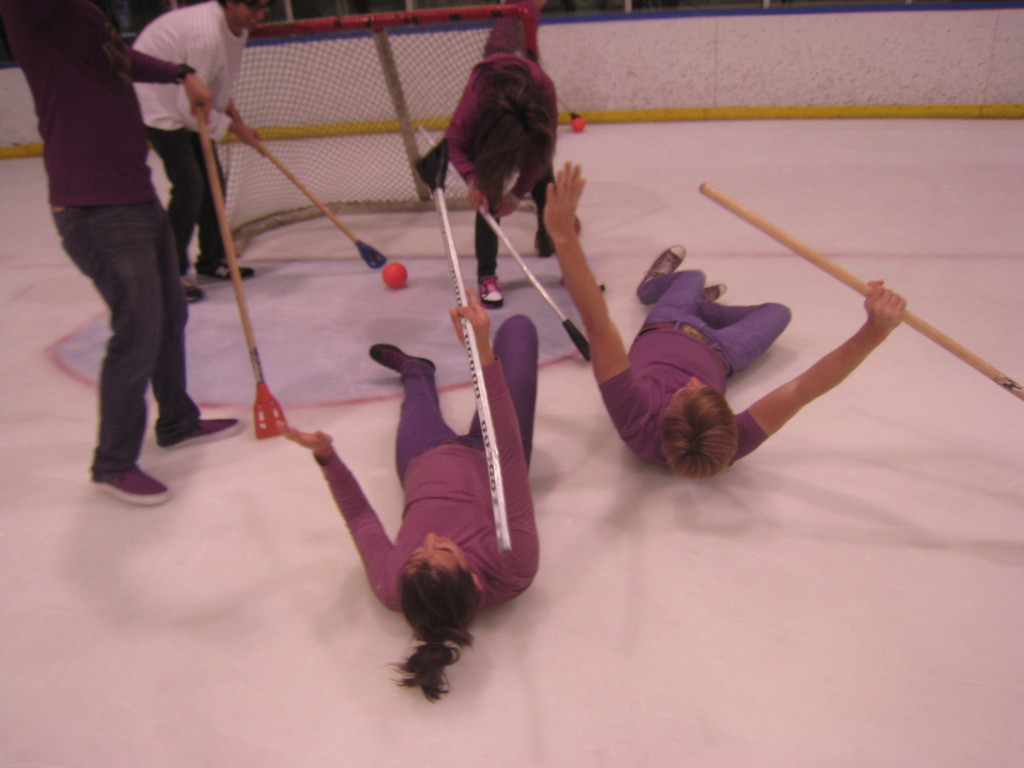Person: (0, 0, 242, 511), (542, 156, 908, 480), (129, 0, 279, 301), (440, 52, 582, 310)
